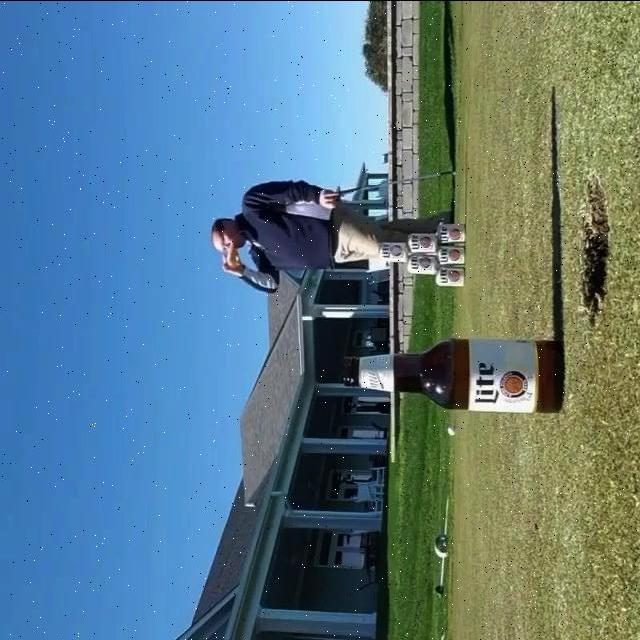golf ball: (447, 424, 455, 434)
golf club-handle: (335, 169, 456, 198)
golf club-head: (335, 185, 341, 198)
